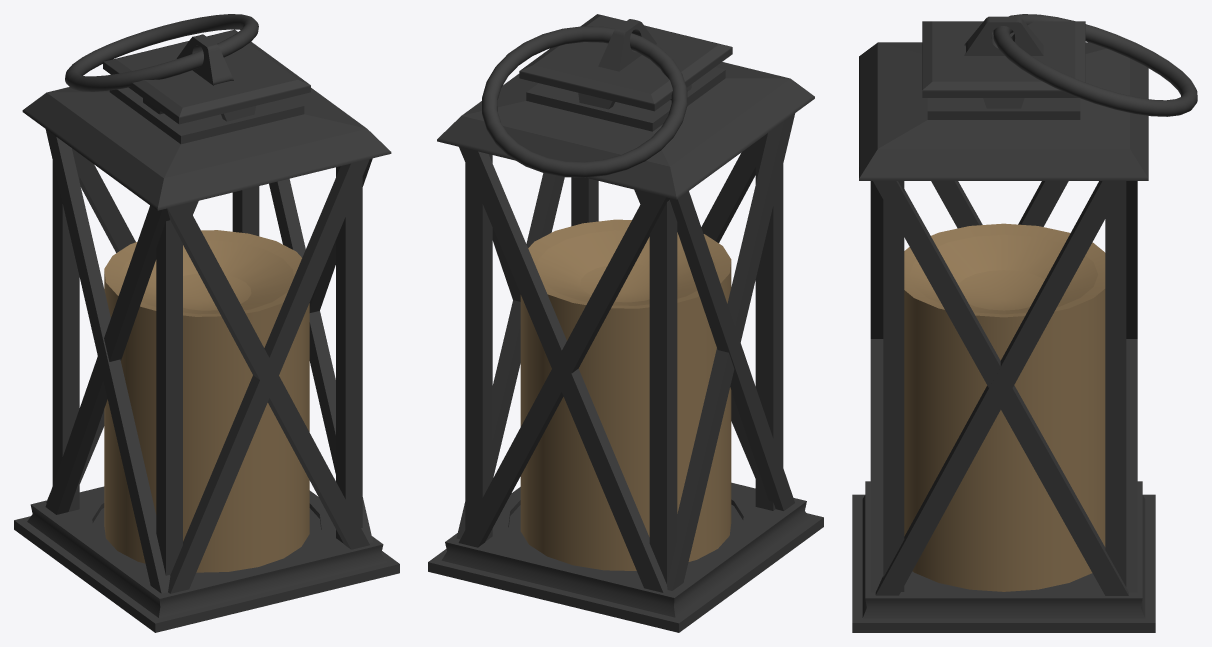
The model's file is lanterne.fbx.
3 renders of one model, left to right at view 1: azimuth 30°, elevation 25°; view 2: azimuth 150°, elevation 25°; view 3: azimuth 270°, elevation 25°, orthographic. The views are drawn at different scales.
Visible parts, largest first — view 1: pCube22; view 2: pCube22; view 3: pCube22.
Boxes of the visible parts, bbox=[...] form: pCube22: bbox=[14, 14, 399, 632]; pCube22: bbox=[428, 14, 823, 632]; pCube22: bbox=[852, 14, 1197, 632].
Size of the model in its own units: 9.11 by 18.19 by 10.38.
